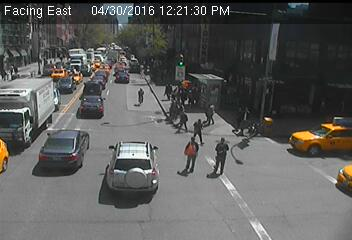neg: (26, 29, 54, 66), (72, 80, 99, 115), (265, 182, 291, 217), (293, 134, 319, 168), (44, 125, 67, 156), (196, 29, 216, 55), (116, 155, 135, 181), (260, 39, 278, 63), (250, 111, 267, 133), (109, 33, 124, 53), (295, 83, 309, 102)
pos: (207, 135, 236, 174), (176, 136, 203, 172), (187, 115, 205, 138), (204, 101, 220, 122), (132, 86, 147, 106), (174, 112, 188, 131), (161, 80, 175, 98), (189, 90, 201, 107)
